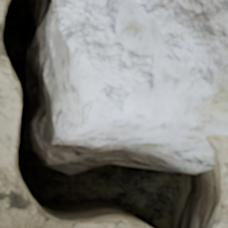brick: (60, 0, 227, 137)
crack: (0, 0, 225, 227)
